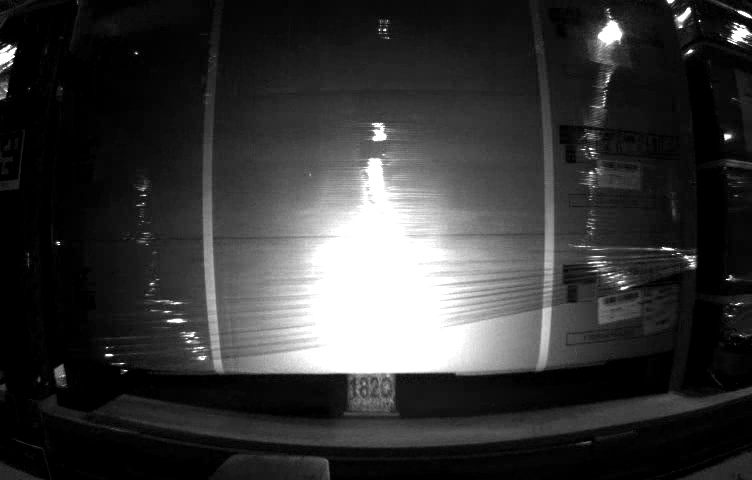True Barcode: (641, 289, 679, 336)
